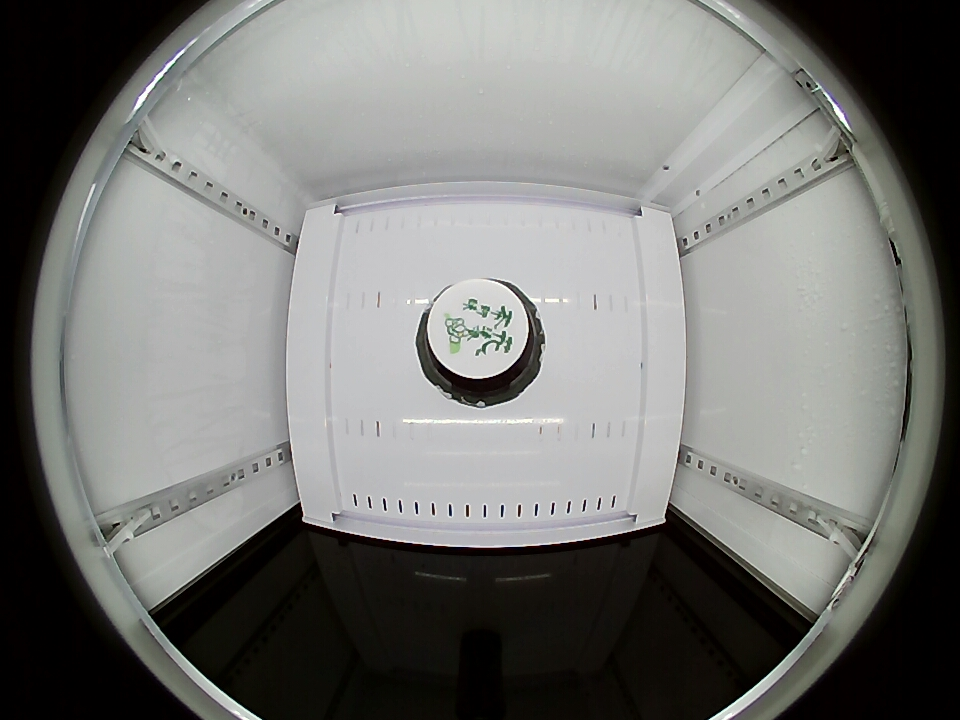moliqingcha: (416, 278, 546, 407)
